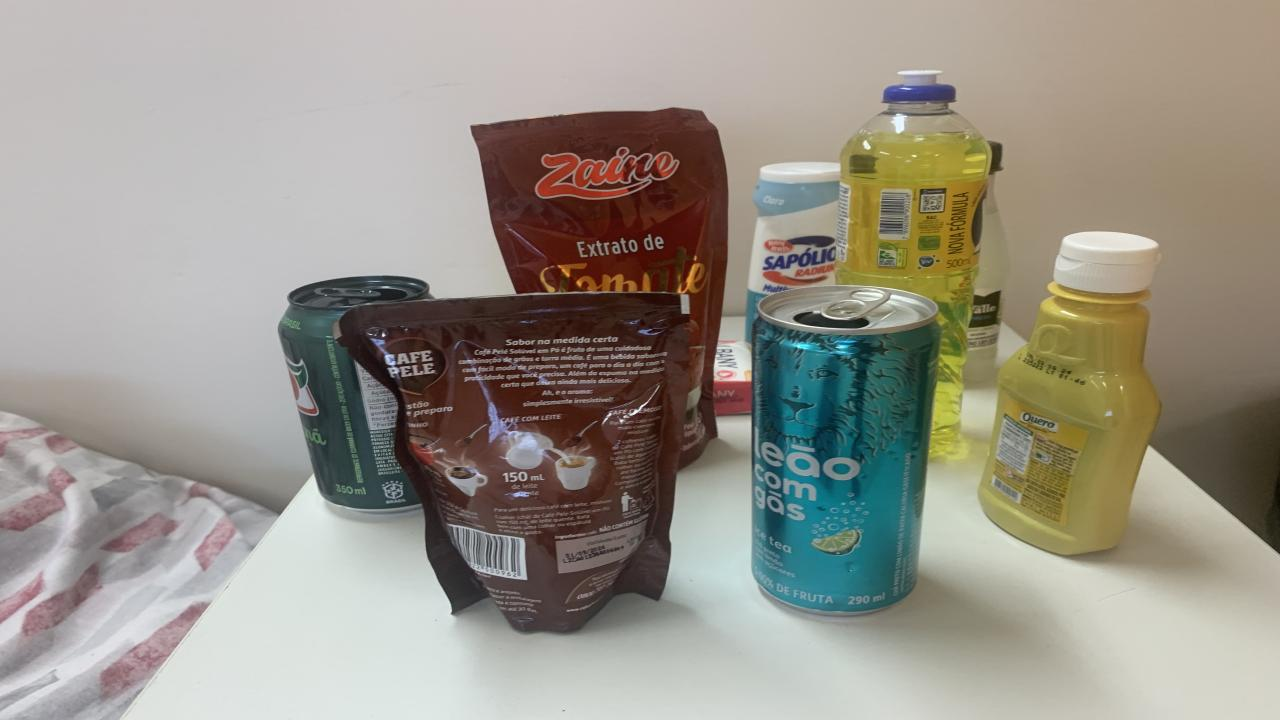Cleaner-Cleanup_Items: (745, 161, 840, 341)
Coffee-Pantry_Items: (338, 292, 690, 632)
Detergent-Cleanup_Items: (835, 71, 990, 452)
Guarana_Can-Drinks: (278, 276, 432, 512)
Mustard-Pantry_Items: (978, 232, 1160, 555)
Soda-Drinks: (965, 142, 1010, 384)
Tea-Drinks: (752, 287, 940, 615)
Tomato_Sauce-Pantry_Items: (472, 109, 728, 465)
